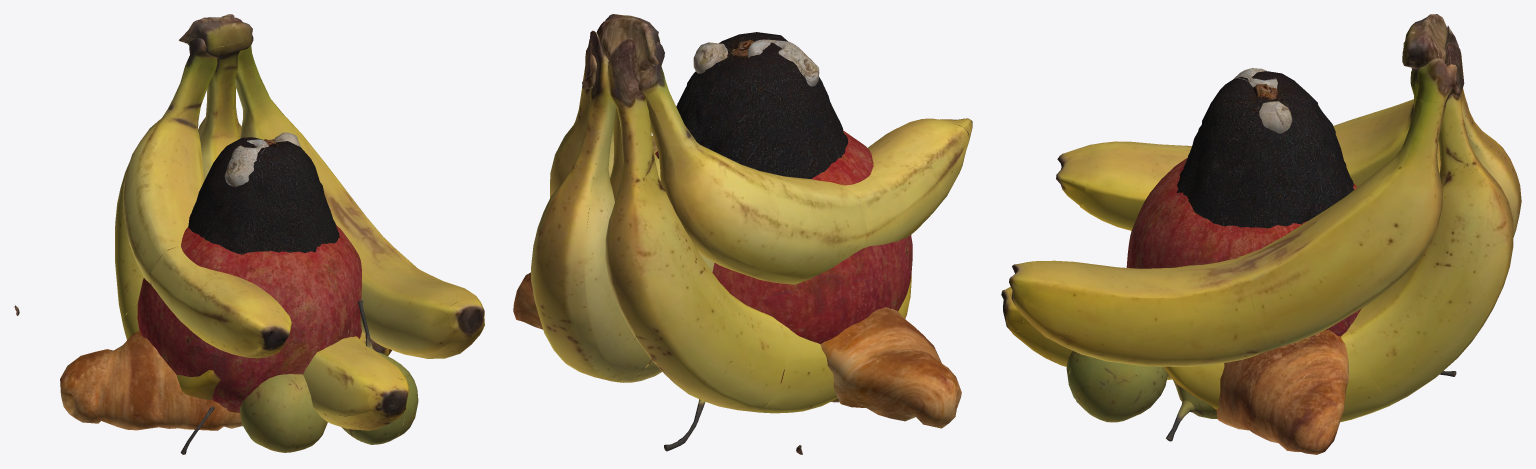
Rendered from hortifruti.glb.
3 renders of one model, left to right at view 1: azimuth 30°, elevation 25°; view 2: azimuth 150°, elevation 25°; view 3: azimuth 270°, elevation 25°, orthographic. The views are drawn at different scales.
Parts seen in each view (by area): view 1: banana, roma, abacate, croissant, pera, gengibre; view 2: banana, abacate, croissant, roma, gengibre; view 3: banana, abacate, croissant, roma, pera, gengibre.
Part boxes in pixels (x1,y1,x2,y2): banana: [14, 14, 484, 430]; roma: [137, 225, 361, 412]; abacate: [188, 137, 339, 283]; croissant: [60, 330, 391, 430]; pera: [180, 300, 418, 454]; gengibre: [224, 132, 300, 186]; banana: [531, 14, 972, 454]; abacate: [657, 32, 848, 178]; croissant: [513, 272, 961, 428]; roma: [655, 131, 912, 383]; gengibre: [693, 39, 819, 86]; banana: [1001, 14, 1521, 422]; abacate: [1176, 71, 1353, 228]; croissant: [1216, 329, 1349, 454]; roma: [1126, 158, 1362, 336]; pera: [1066, 351, 1456, 441]; gengibre: [1233, 68, 1292, 133].
Size of the model in its own units: 0.2 by 0.1789 by 0.2229.
Materials: 13 (13 with a texture image).
